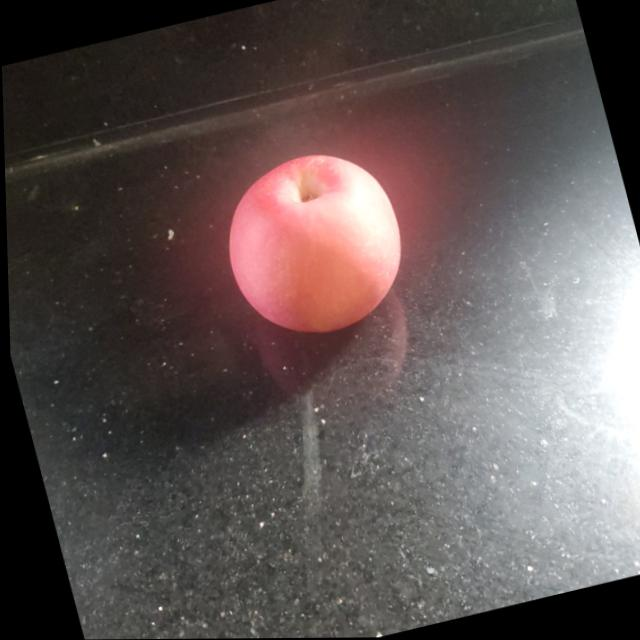apple: (206, 139, 423, 348)
